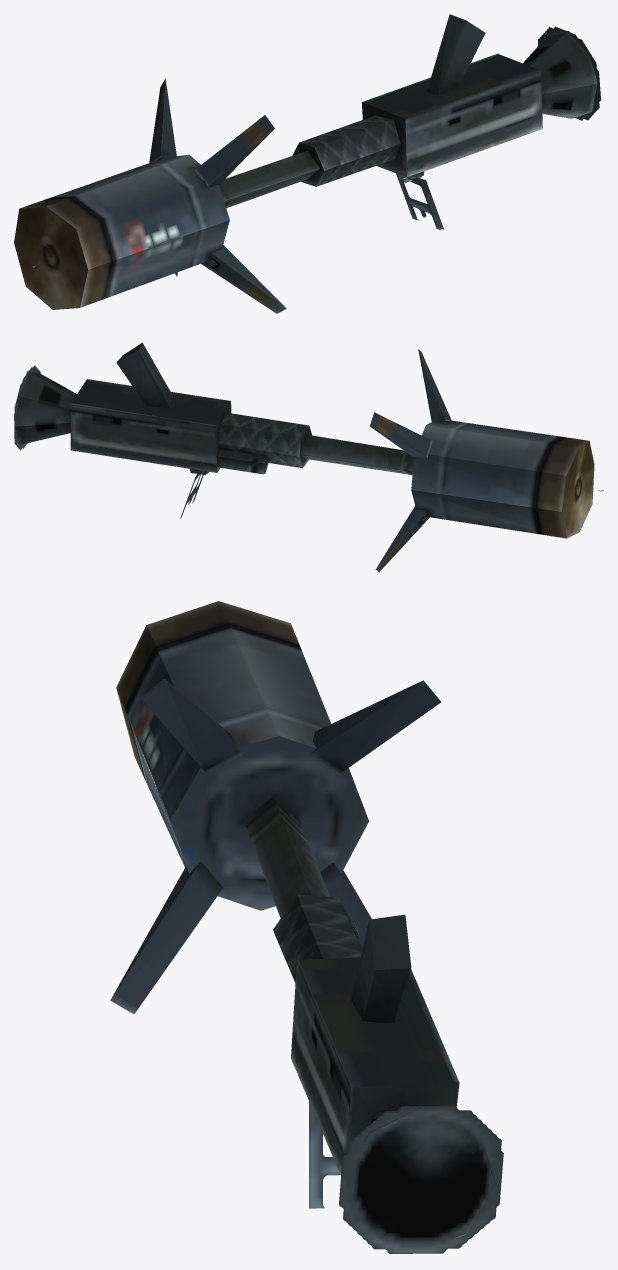
File: TAARMGUN.obj
3 renders of one model, top to bottom at view 1: azimuth 30°, elevation 25°; view 2: azimuth 150°, elevation 25°; view 3: azimuth 270°, elevation 25°, orthographic. The views are drawn at different scales.
Parts seen in each view (by area): view 1: Node 0; view 2: Node 0; view 3: Node 0.
Boxes of the visible parts, bbox=[...] form: Node 0: bbox=[14, 14, 600, 313]; Node 0: bbox=[14, 342, 594, 572]; Node 0: bbox=[110, 601, 503, 1253].
Size of the model in its own units: 2.02 by 0.65 by 0.66.
2 materials, 2 textured.
